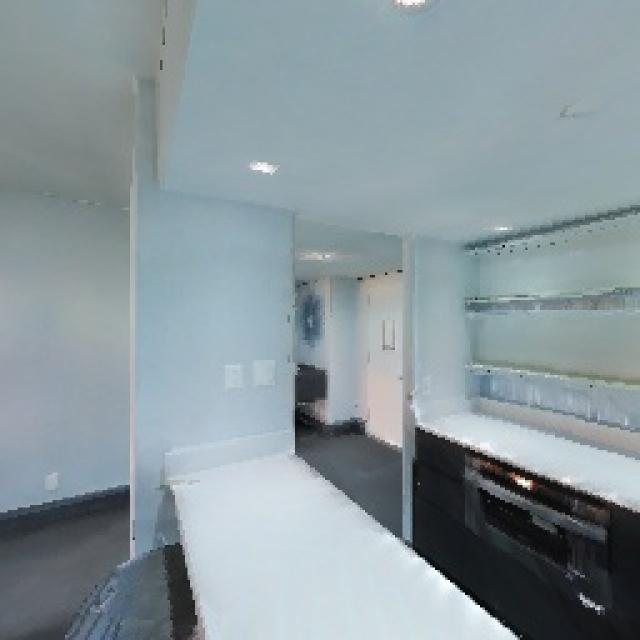door-frame: (274, 200, 424, 546)
